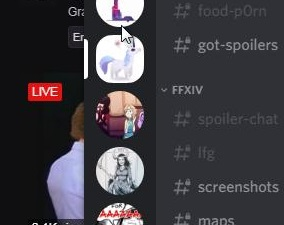cursor: (117, 20, 135, 48)
